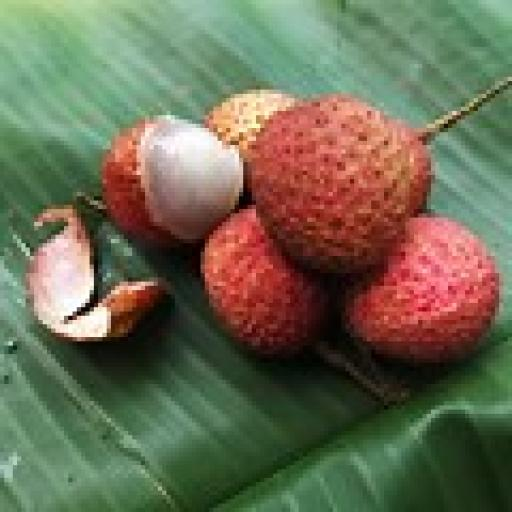lychee: (248, 77, 511, 273), (248, 94, 430, 273), (342, 214, 499, 362), (201, 205, 328, 354), (103, 116, 243, 243), (205, 90, 298, 162)
